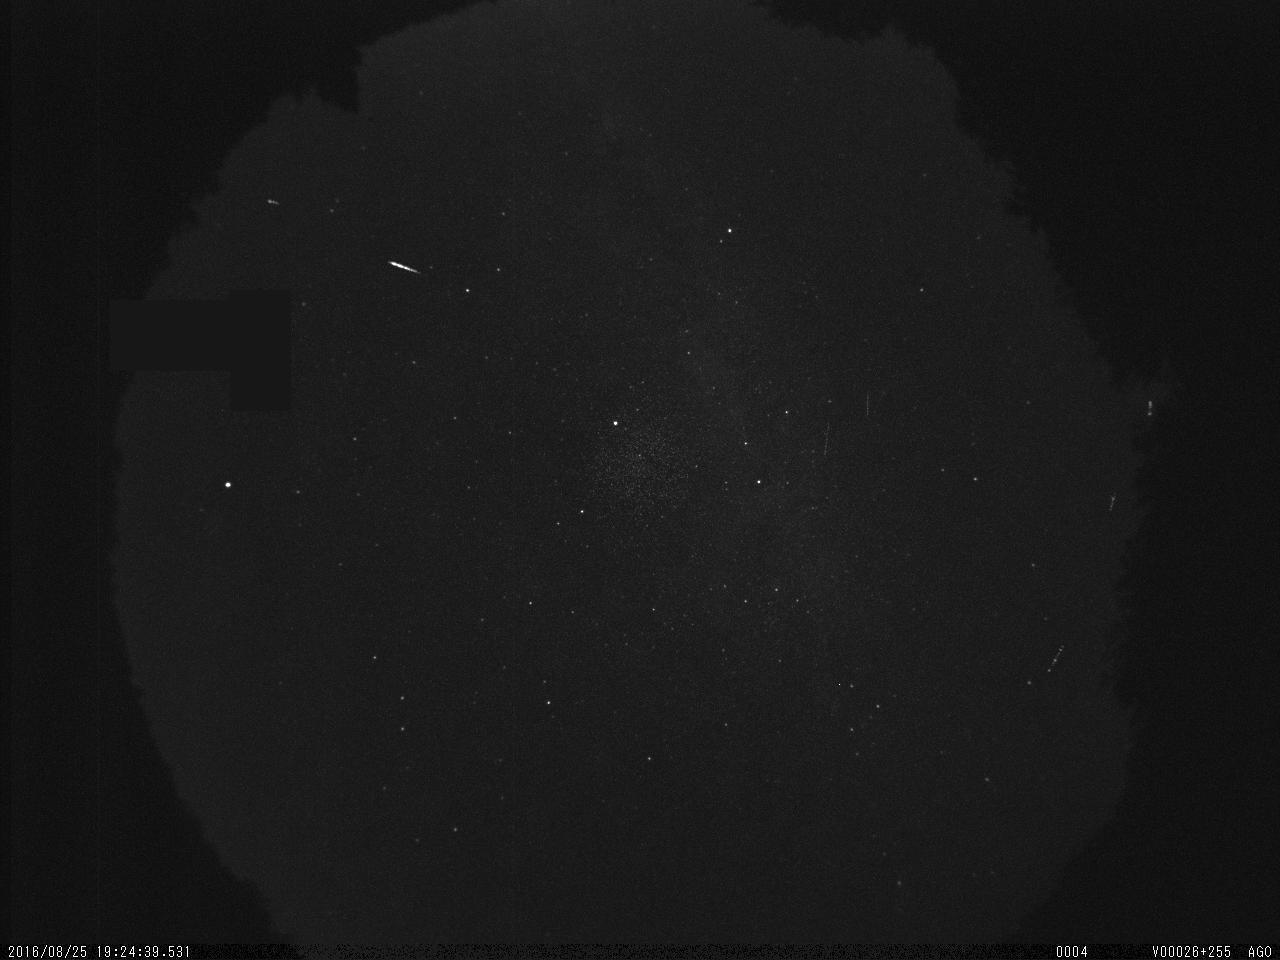Meteor: (385, 257, 420, 275), (264, 198, 284, 210)
